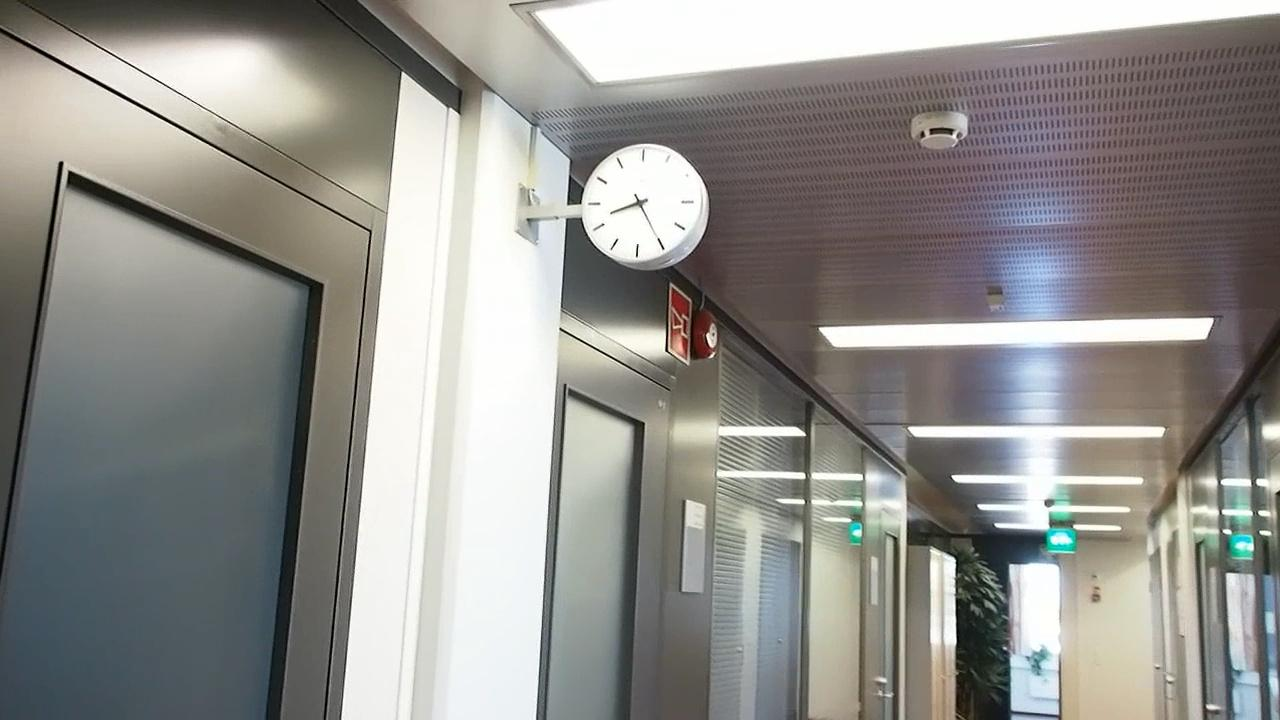clock: (579, 139, 713, 274)
